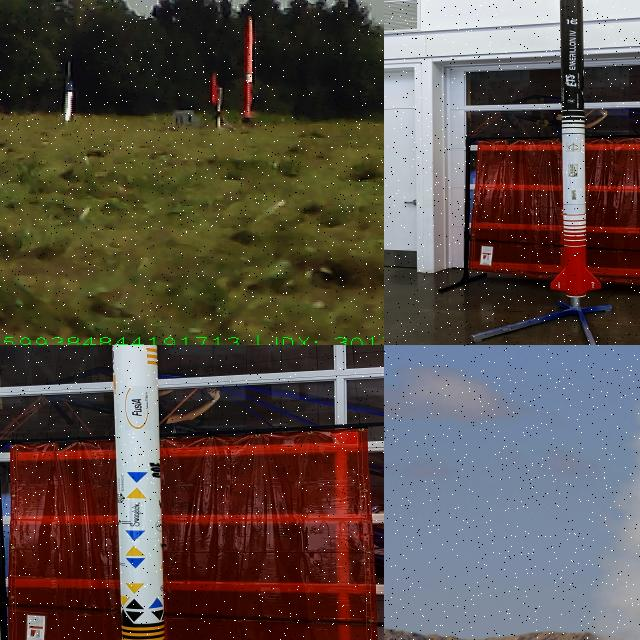Rocket: (112, 345, 165, 640), (550, 0, 602, 298), (242, 15, 254, 119), (210, 69, 221, 104), (66, 80, 74, 122)
